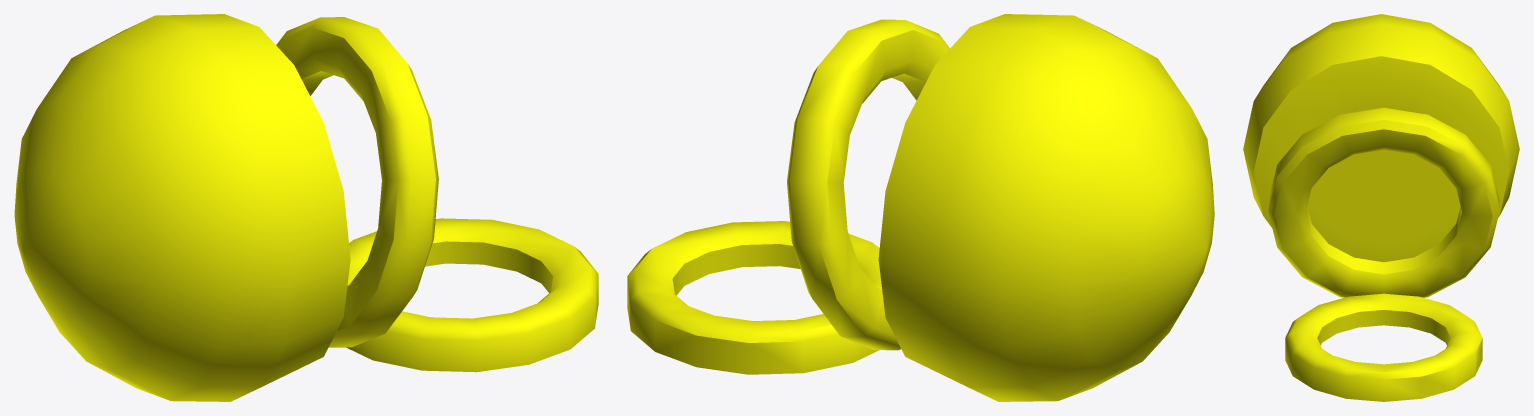
Rendered from food_ingredient_onion_chopped.gltf.
The picture shows the model from 3 angles, left to right: view 1: azimuth 30°, elevation 25°; view 2: azimuth 150°, elevation 25°; view 3: azimuth 270°, elevation 25°; orthographic projection. The views are drawn at different scales.
Visible parts, largest first — view 1: food_ingredient_onion_chopped; view 2: food_ingredient_onion_chopped; view 3: food_ingredient_onion_chopped.
Boxes of the visible parts, x1=… form: food_ingredient_onion_chopped: x1=14, y1=14, x2=598, y2=401; food_ingredient_onion_chopped: x1=627, y1=14, x2=1214, y2=401; food_ingredient_onion_chopped: x1=1243, y1=14, x2=1519, y2=401.
Bounding box in the file's own units: 1.23 × 0.75 × 0.75.
1 material, 1 textured.
